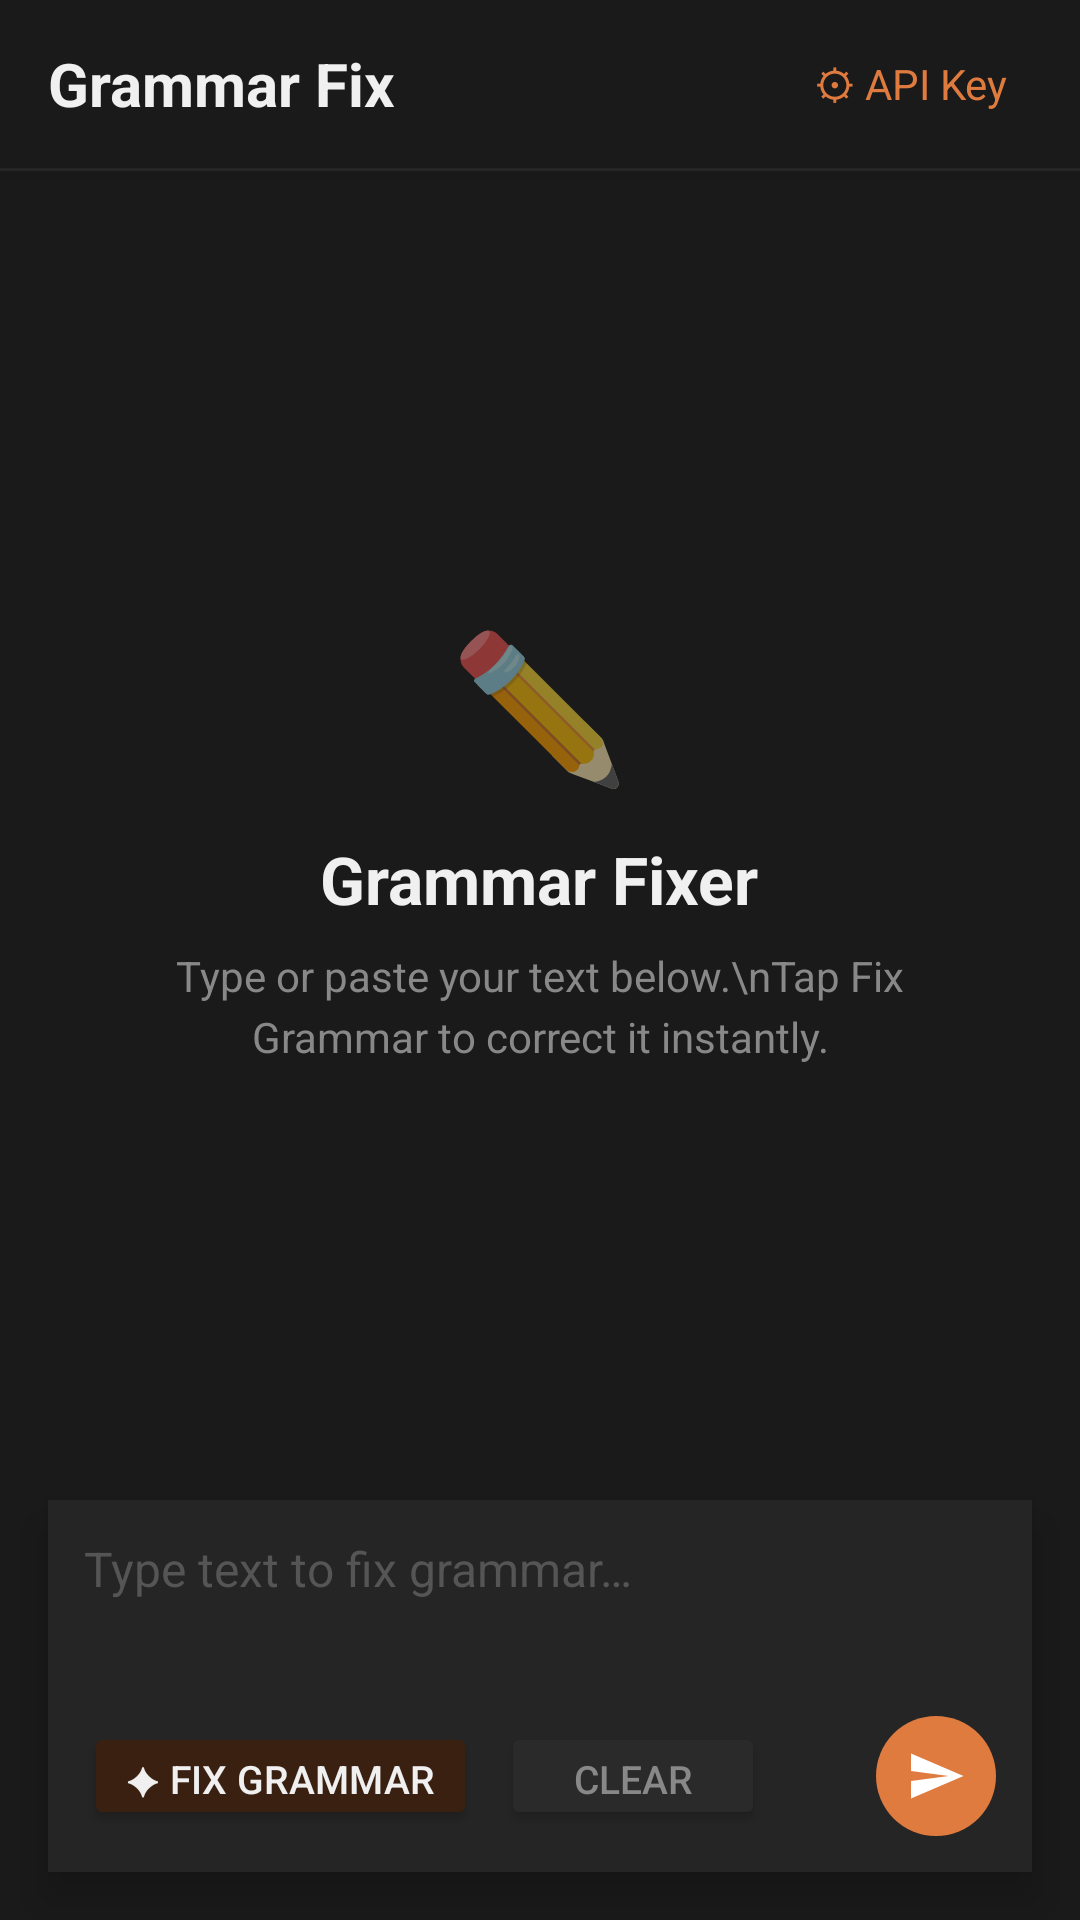

Icon bounding boxes for this 1080px x 1920px phone screenshot, format (x1, y1, x2, y2):
Send: (876, 1716, 996, 1836)
